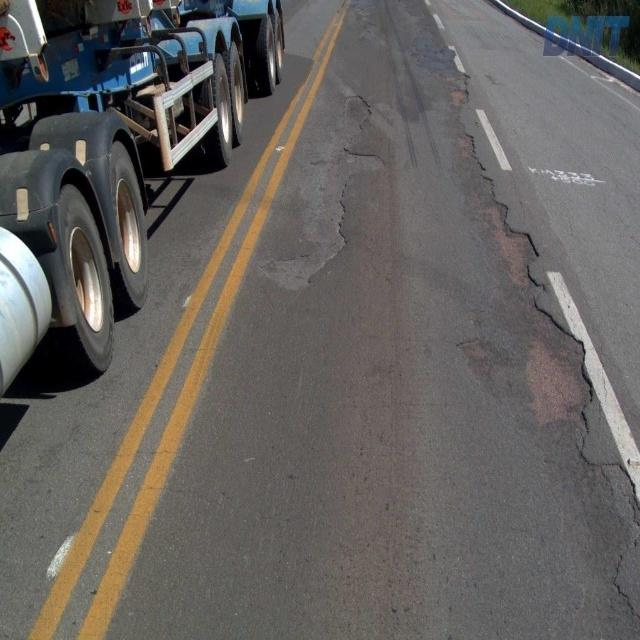pothole: (438, 64, 640, 639), (261, 88, 392, 291)
